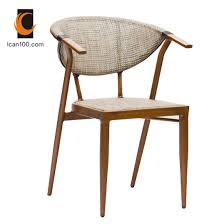tiyarina: (41, 14, 206, 217)
